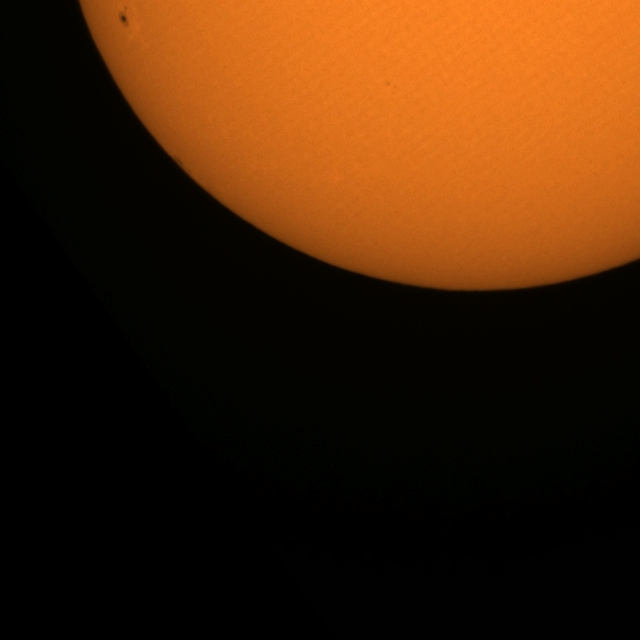sunspot: (118, 4, 130, 29)
